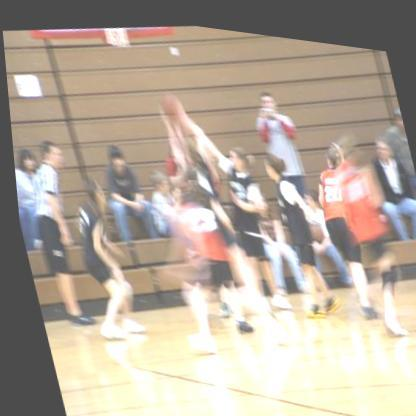basketball: (156, 85, 179, 113)
